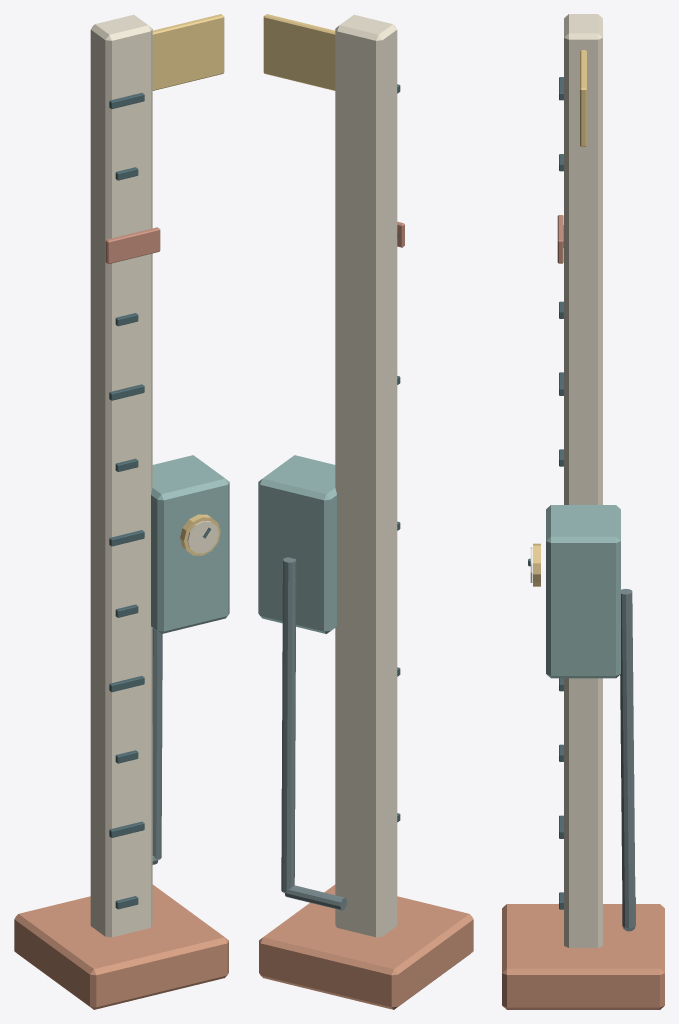
The model's file is tide_gauge.glb.
3 renders of one model, left to right at view 1: azimuth 30°, elevation 25°; view 2: azimuth 150°, elevation 25°; view 3: azimuth 270°, elevation 25°, orthographic.
Visible parts, largest first — view 1: tide_gauge; view 2: tide_gauge; view 3: tide_gauge.
Boxes of the visible parts, left/top/right/bottom form: tide_gauge: left=14, top=14, right=229, bottom=1009; tide_gauge: left=258, top=14, right=473, bottom=1009; tide_gauge: left=502, top=14, right=664, bottom=1009.
Bounding box in the file's own units: 0.615 × 3.23 × 0.5.
